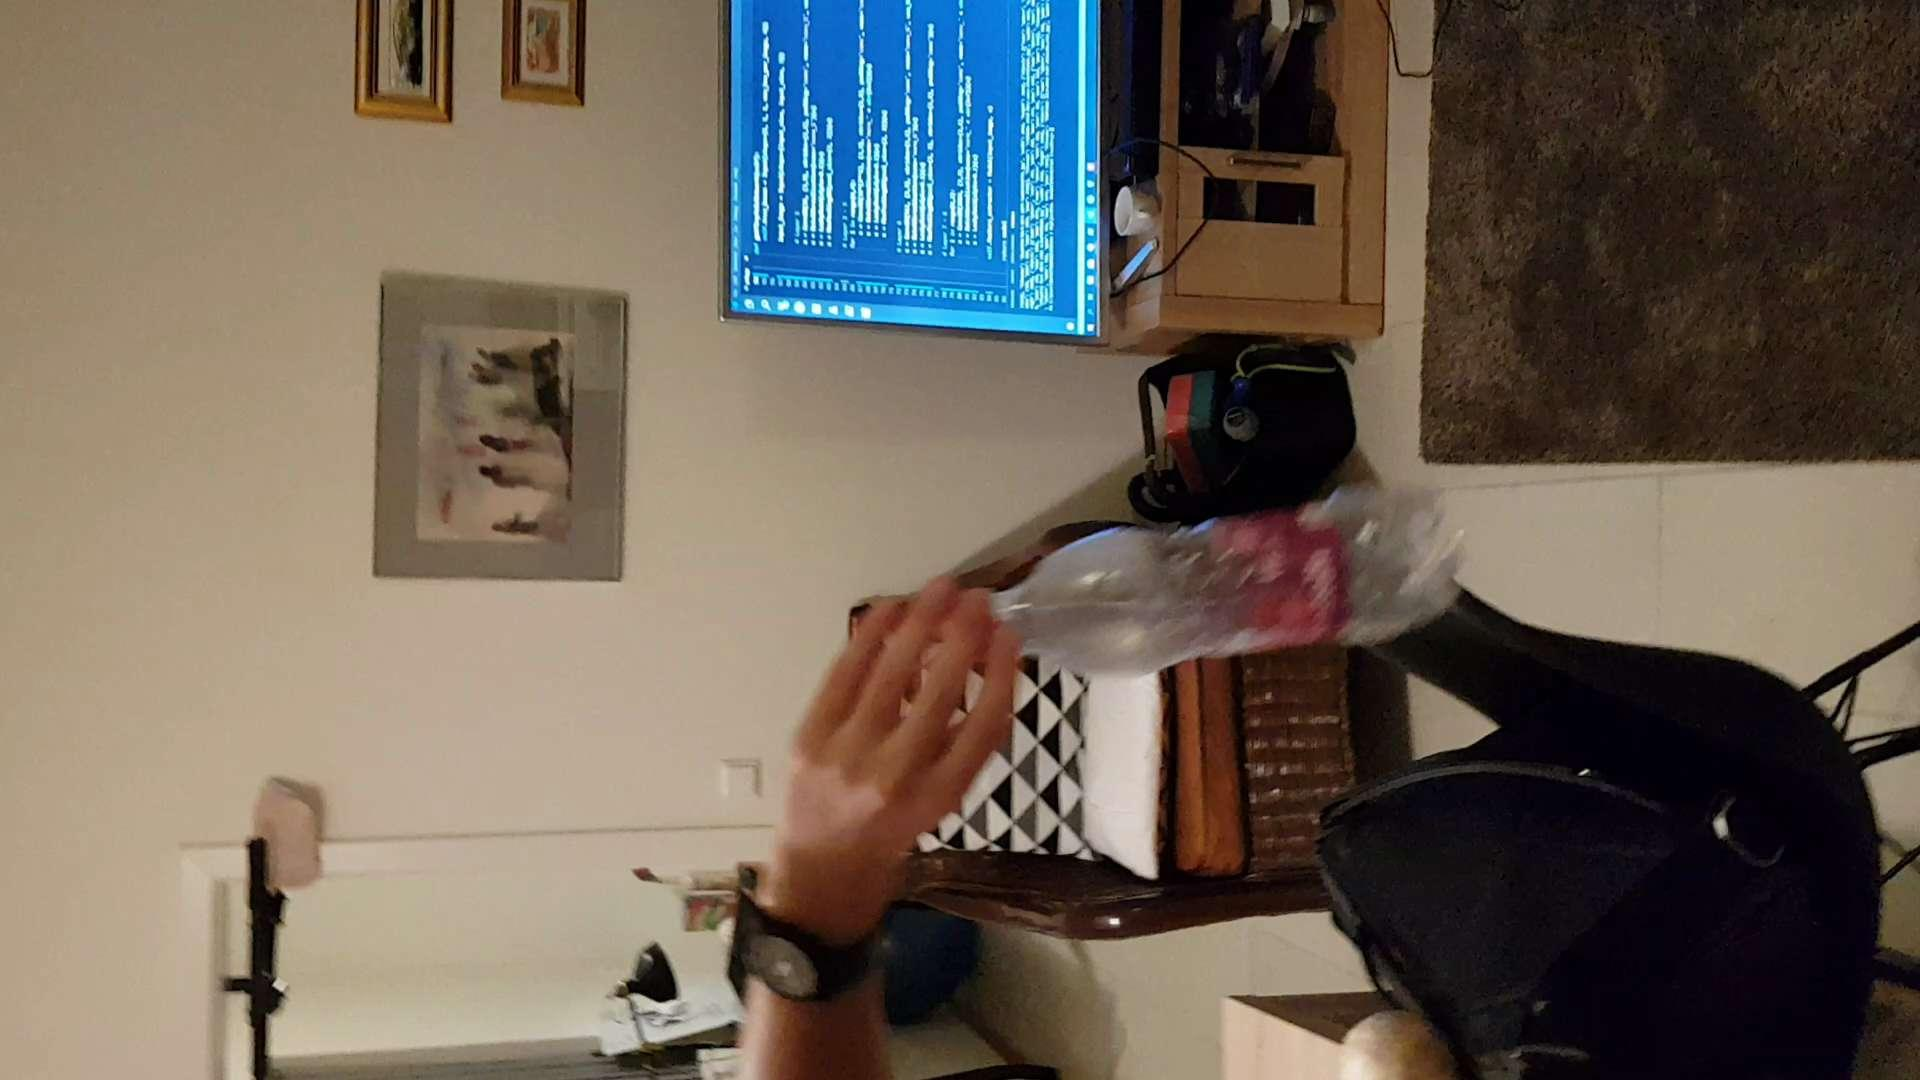Bottle: (894, 485, 1455, 680)
